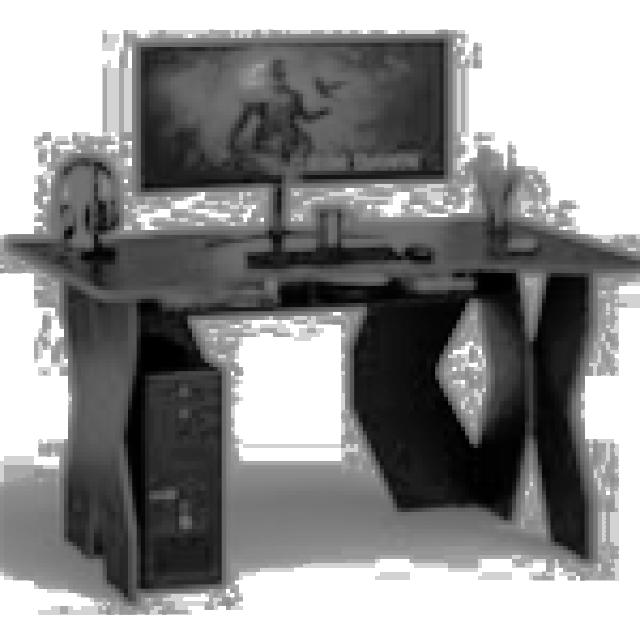table: (4, 213, 636, 602)
